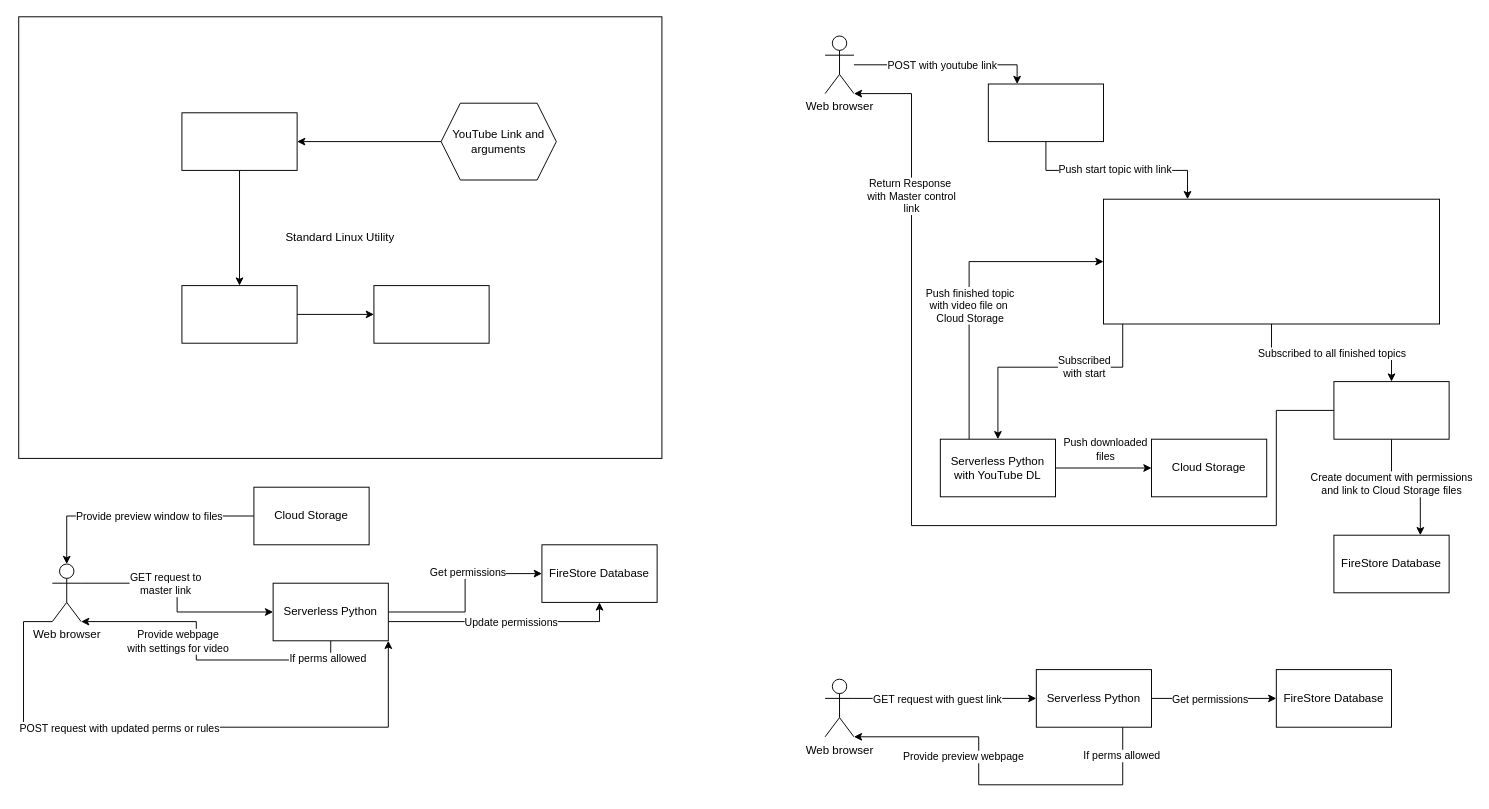
Some shapes in this 1489 by 809 pixel diagram are drawn without their labels. The shapes that lost their labels are listed below. From the top down, each one's centre as x and y in pixels, then its label:
the point at 1045,112: Flask application hosting webpage Serverless
the point at 239,141: YouTube-DL program
the point at 1271,261: Pub/Sub
the point at 239,314: output files <video files, subtitles, thumbnails>
the point at 431,314: File System
the point at 1391,410: Serverless Python with FireStore access
